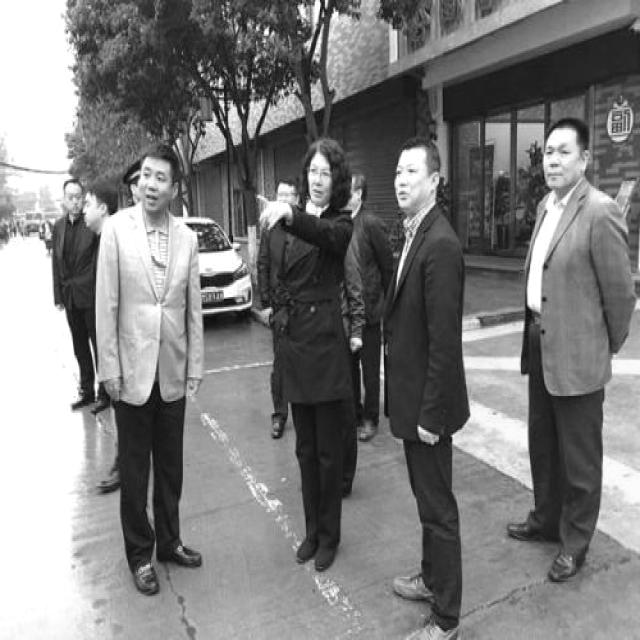face_nomask: (392, 162, 425, 208), (139, 164, 171, 209), (541, 141, 576, 179), (304, 164, 338, 200), (82, 199, 97, 226), (65, 190, 82, 212)
head_nohelmet: (398, 132, 438, 160), (307, 136, 347, 163), (141, 140, 179, 168), (547, 115, 590, 139), (84, 176, 119, 200), (63, 175, 87, 192)
person: (492, 110, 634, 599), (92, 141, 206, 612), (256, 134, 358, 579), (382, 132, 470, 640), (49, 167, 105, 424)
shoes: (546, 535, 595, 582), (390, 563, 444, 602), (503, 508, 562, 542), (313, 526, 347, 575), (155, 536, 205, 569), (125, 554, 163, 597), (292, 524, 325, 569), (405, 618, 463, 640), (264, 408, 291, 442), (67, 382, 96, 410)
